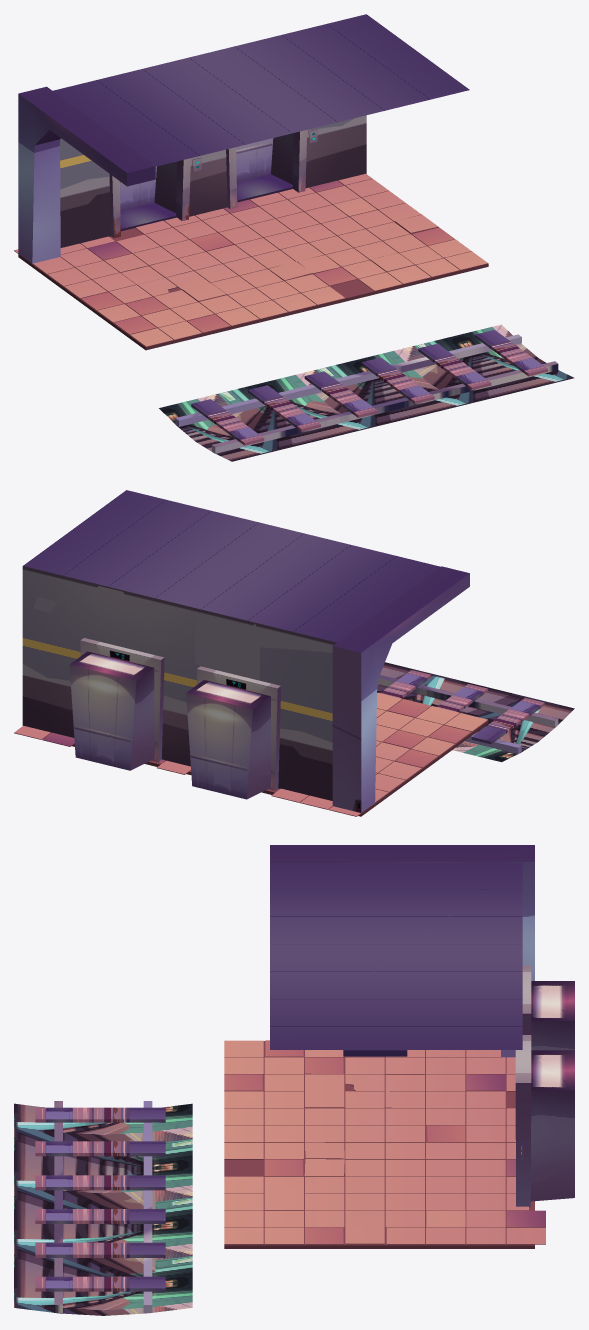
The model's file is pared_y_suelo_3_ascensor.fbx.
3 renders of one model, top to bottom at view 1: azimuth 30°, elevation 25°; view 2: azimuth 150°, elevation 25°; view 3: azimuth 270°, elevation 25°, orthographic. The views are drawn at different scales.
Visible parts, largest first — view 1: Cube.027; view 2: Cube.027; view 3: Cube.027.
Part boxes in pixels (box(x1,y1,x2,y2)): Cube.027: box(14, 14, 574, 461); Cube.027: box(14, 490, 574, 816); Cube.027: box(14, 845, 574, 1315).
Bounding box in the file's own units: 427 × 260 × 496.
